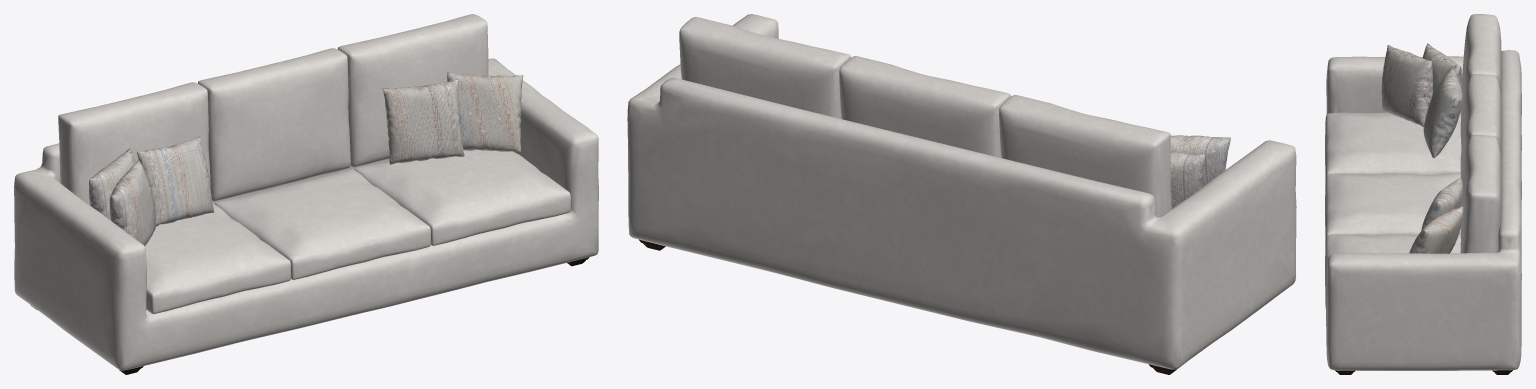
Rendered from sofa_white_leather.glb.
3 renders of one model, left to right at view 1: azimuth 30°, elevation 25°; view 2: azimuth 150°, elevation 25°; view 3: azimuth 270°, elevation 25°, orthographic. The views are drawn at different scales.
Parts seen in each view (by area): view 1: Cube_0, Cube.007_1; view 2: Cube_0, Cube.007_1; view 3: Cube_0, Cube.007_1.
Part boxes in pixels (left/top/right/bottom): Cube_0: left=14, top=14, right=598, bottom=374; Cube.007_1: left=88, top=72, right=523, bottom=245; Cube_0: left=627, top=14, right=1296, bottom=374; Cube.007_1: left=1170, top=135, right=1230, bottom=208; Cube_0: left=1325, top=14, right=1521, bottom=374; Cube.007_1: left=1381, top=43, right=1463, bottom=253.
Size of the model in its own units: 4.97 by 1.9 by 1.96.
3 materials, 3 textured.
